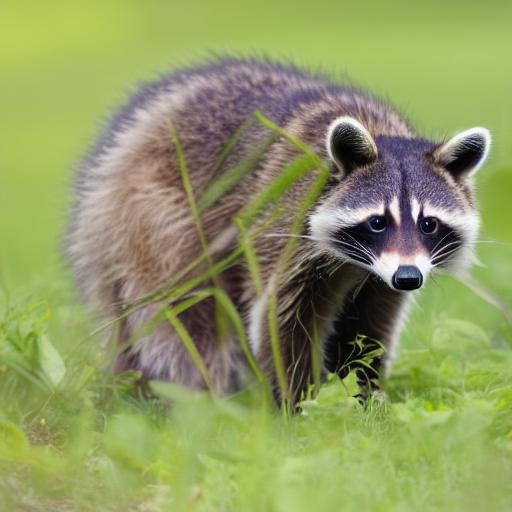raccoon: (56, 41, 499, 413)
